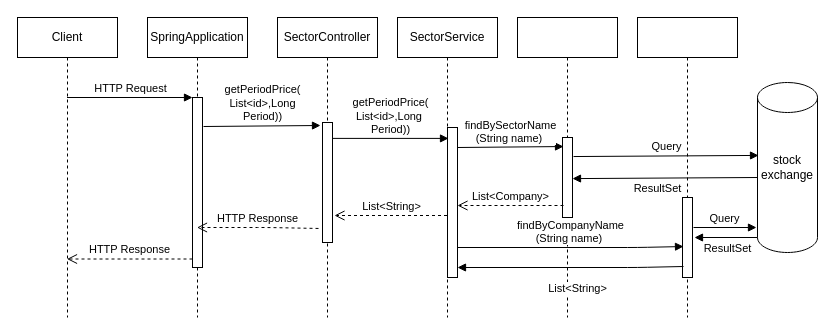
Image size: 835x335. Some labels were removed from this diagram. The shapes that lost their labels are listed below. From the top down, each one's centre as x and y in pixels, then its label:
At (x=567, y=167): "CompanyRepo".
At (x=687, y=167): "StockRepo".
